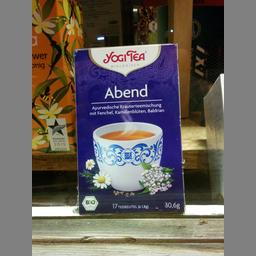tea: (73, 41, 185, 215)
